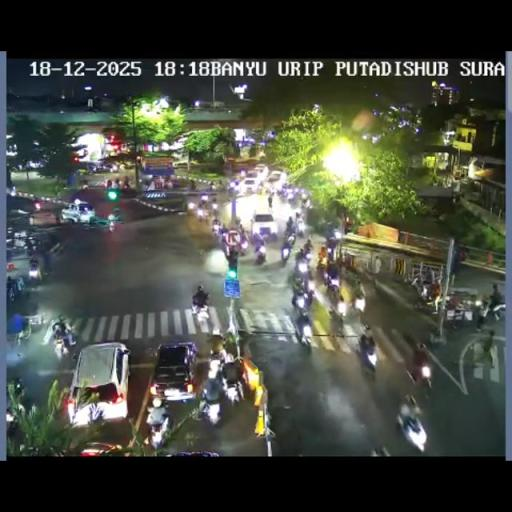Car: (66, 342, 130, 426), (149, 342, 198, 402), (60, 202, 97, 224), (74, 441, 126, 455), (251, 213, 277, 240), (238, 177, 262, 194), (86, 161, 116, 173), (266, 170, 284, 186), (171, 158, 191, 168), (254, 164, 268, 178)
Motorcycle: (196, 194, 317, 268), (289, 242, 358, 348), (271, 402, 303, 454), (395, 405, 427, 450), (410, 275, 444, 313), (145, 400, 171, 449), (219, 358, 245, 402), (476, 294, 506, 324), (442, 298, 470, 329), (53, 326, 77, 360), (358, 334, 377, 372), (411, 358, 433, 390), (5, 335, 27, 367), (292, 314, 312, 348), (200, 396, 222, 425), (325, 280, 343, 314), (6, 274, 26, 304), (191, 286, 210, 315), (480, 330, 495, 365), (292, 288, 312, 314), (6, 406, 22, 438), (24, 236, 42, 259), (209, 348, 226, 372), (7, 377, 24, 399), (294, 254, 310, 277), (224, 328, 238, 354), (27, 262, 42, 286), (17, 318, 31, 342), (353, 290, 366, 314), (280, 238, 294, 260), (302, 273, 316, 295), (326, 260, 340, 282), (290, 272, 304, 294), (106, 210, 121, 230), (253, 242, 266, 264), (236, 230, 249, 252), (196, 206, 210, 224), (315, 254, 327, 274), (326, 238, 338, 258), (370, 444, 390, 456), (221, 234, 231, 256), (294, 218, 306, 236), (211, 218, 222, 236), (226, 183, 238, 198), (303, 238, 313, 256), (343, 217, 354, 233), (284, 222, 296, 236), (266, 184, 278, 198), (198, 195, 208, 210), (302, 196, 312, 210), (232, 214, 242, 227), (210, 200, 218, 214), (122, 180, 132, 190), (288, 194, 296, 206), (334, 228, 342, 239), (267, 194, 273, 208), (188, 200, 196, 210), (362, 321, 370, 331), (9, 186, 17, 196), (250, 214, 255, 229), (208, 180, 214, 191), (114, 178, 120, 188), (190, 181, 196, 190), (217, 180, 222, 190)
